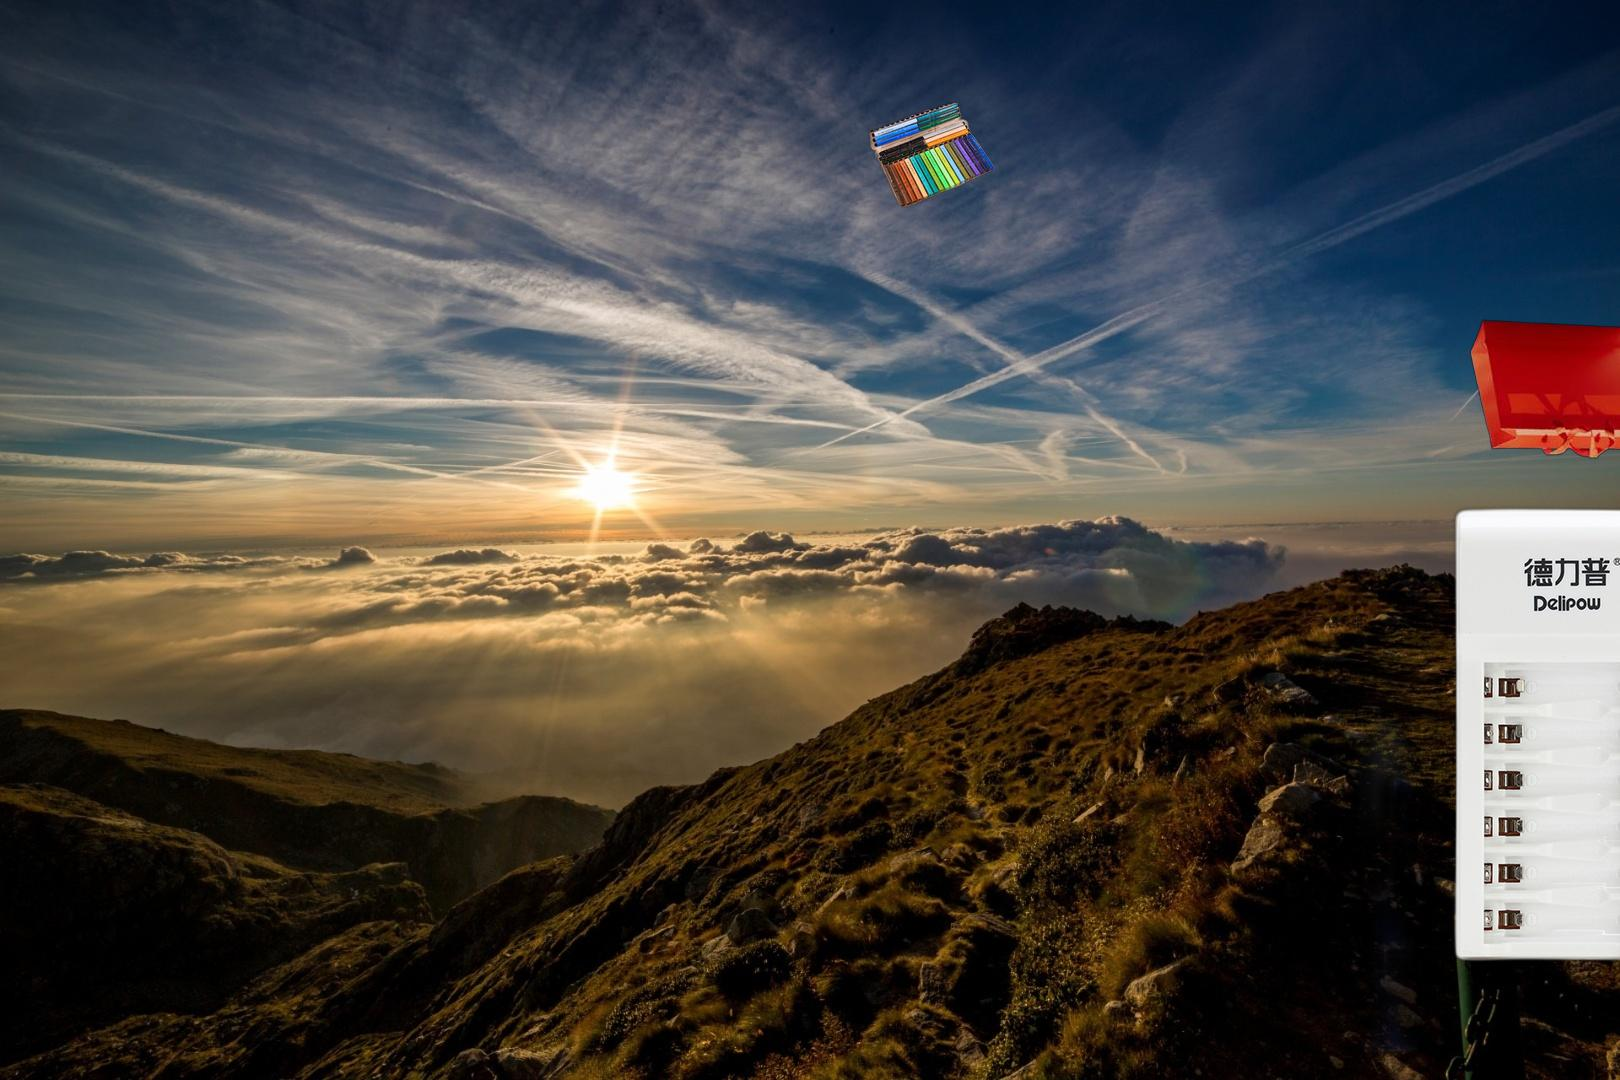battery: (1450, 450, 1620, 965)
paper-bag: (1468, 317, 1620, 460)
penholder: (1226, 605, 1620, 1080), (865, 100, 999, 209)
